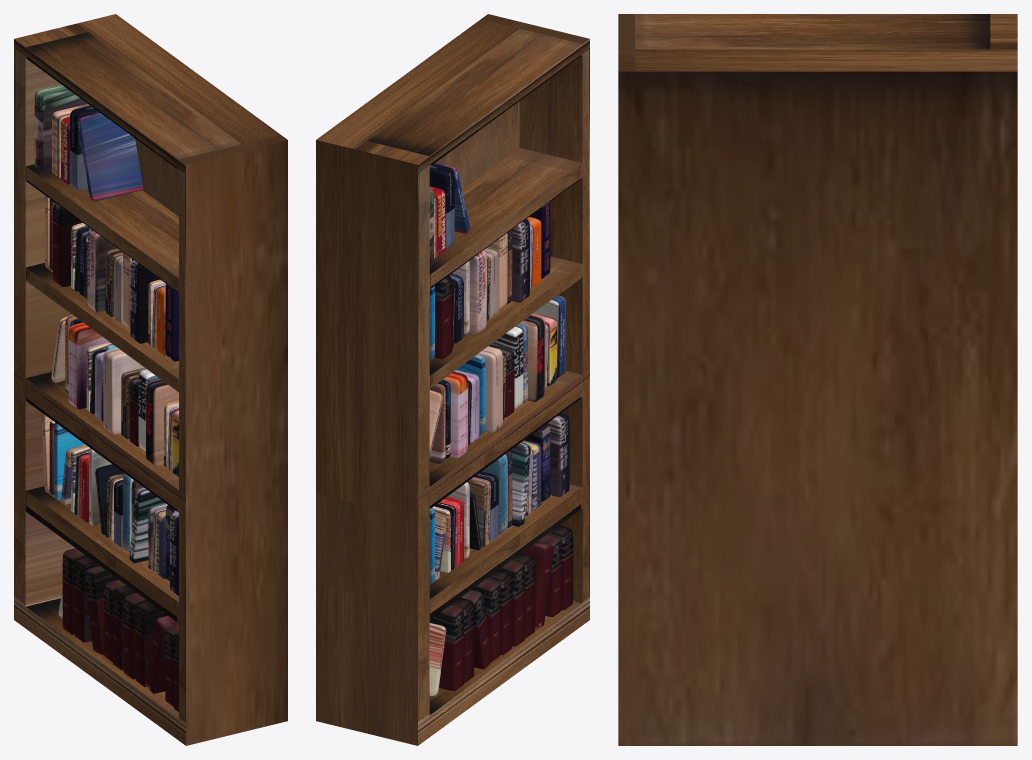
The model's file is bookshelf_cc0.glb.
3 views of the same model, side by side, from view 1: azimuth 30°, elevation 25°; view 2: azimuth 150°, elevation 25°; view 3: azimuth 270°, elevation 25° (orthographic). The views are drawn at different scales.
Parts seen in each view (by area): view 1: Object_4, Object_5; view 2: Object_4, Object_5; view 3: Object_4.
Part boxes in pixels (box(x1,y1,x2,y2)): Object_4: box(14, 14, 287, 745); Object_5: box(34, 84, 178, 711); Object_4: box(316, 14, 589, 745); Object_5: box(429, 162, 573, 696); Object_4: box(618, 14, 1017, 745).
Size of the model in its own units: 0.2109 by 1.15 by 0.617.
2 materials, 2 textured.
